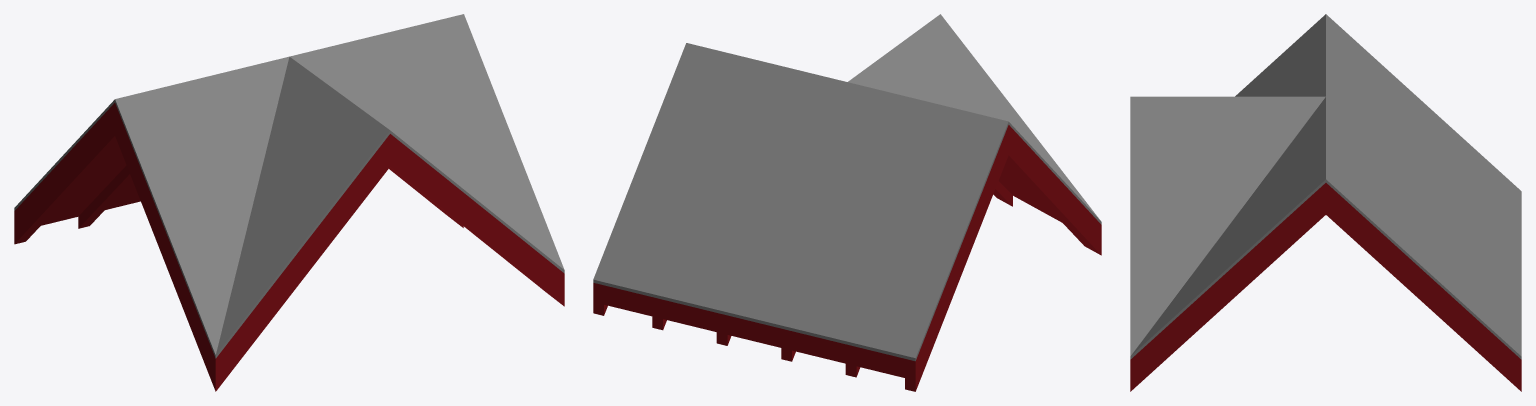
File: SM_MH_01_Slate_Roof_Top_Intersection_01.fbx
3 renders of one model, left to right at view 1: azimuth 30°, elevation 25°; view 2: azimuth 150°, elevation 25°; view 3: azimuth 270°, elevation 25°, orthographic. The views are drawn at different scales.
Parts seen in each view (by area): view 1: SM_MH_01_Slate_Roof_Top_Intersection_01_LOD0; view 2: SM_MH_01_Slate_Roof_Top_Intersection_01_LOD0; view 3: SM_MH_01_Slate_Roof_Top_Intersection_01_LOD0.
Part boxes in pixels (<box>): SM_MH_01_Slate_Roof_Top_Intersection_01_LOD0: <box>14,14,564,391</box>; SM_MH_01_Slate_Roof_Top_Intersection_01_LOD0: <box>593,14,1101,391</box>; SM_MH_01_Slate_Roof_Top_Intersection_01_LOD0: <box>1130,14,1521,391</box>.
Size of what is drawn, in the model's own units: 300 by 180 by 300.
